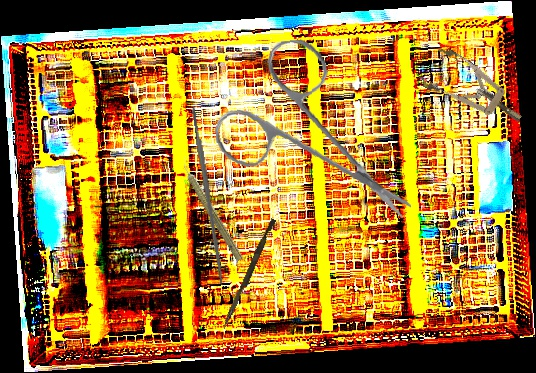Handpiece: (175, 155, 248, 263)
Iris Scissors: (206, 29, 413, 237)
Pusher: (221, 217, 277, 331)
Scalpel Handle: (190, 105, 226, 286)
Speculum: (416, 42, 532, 140)
